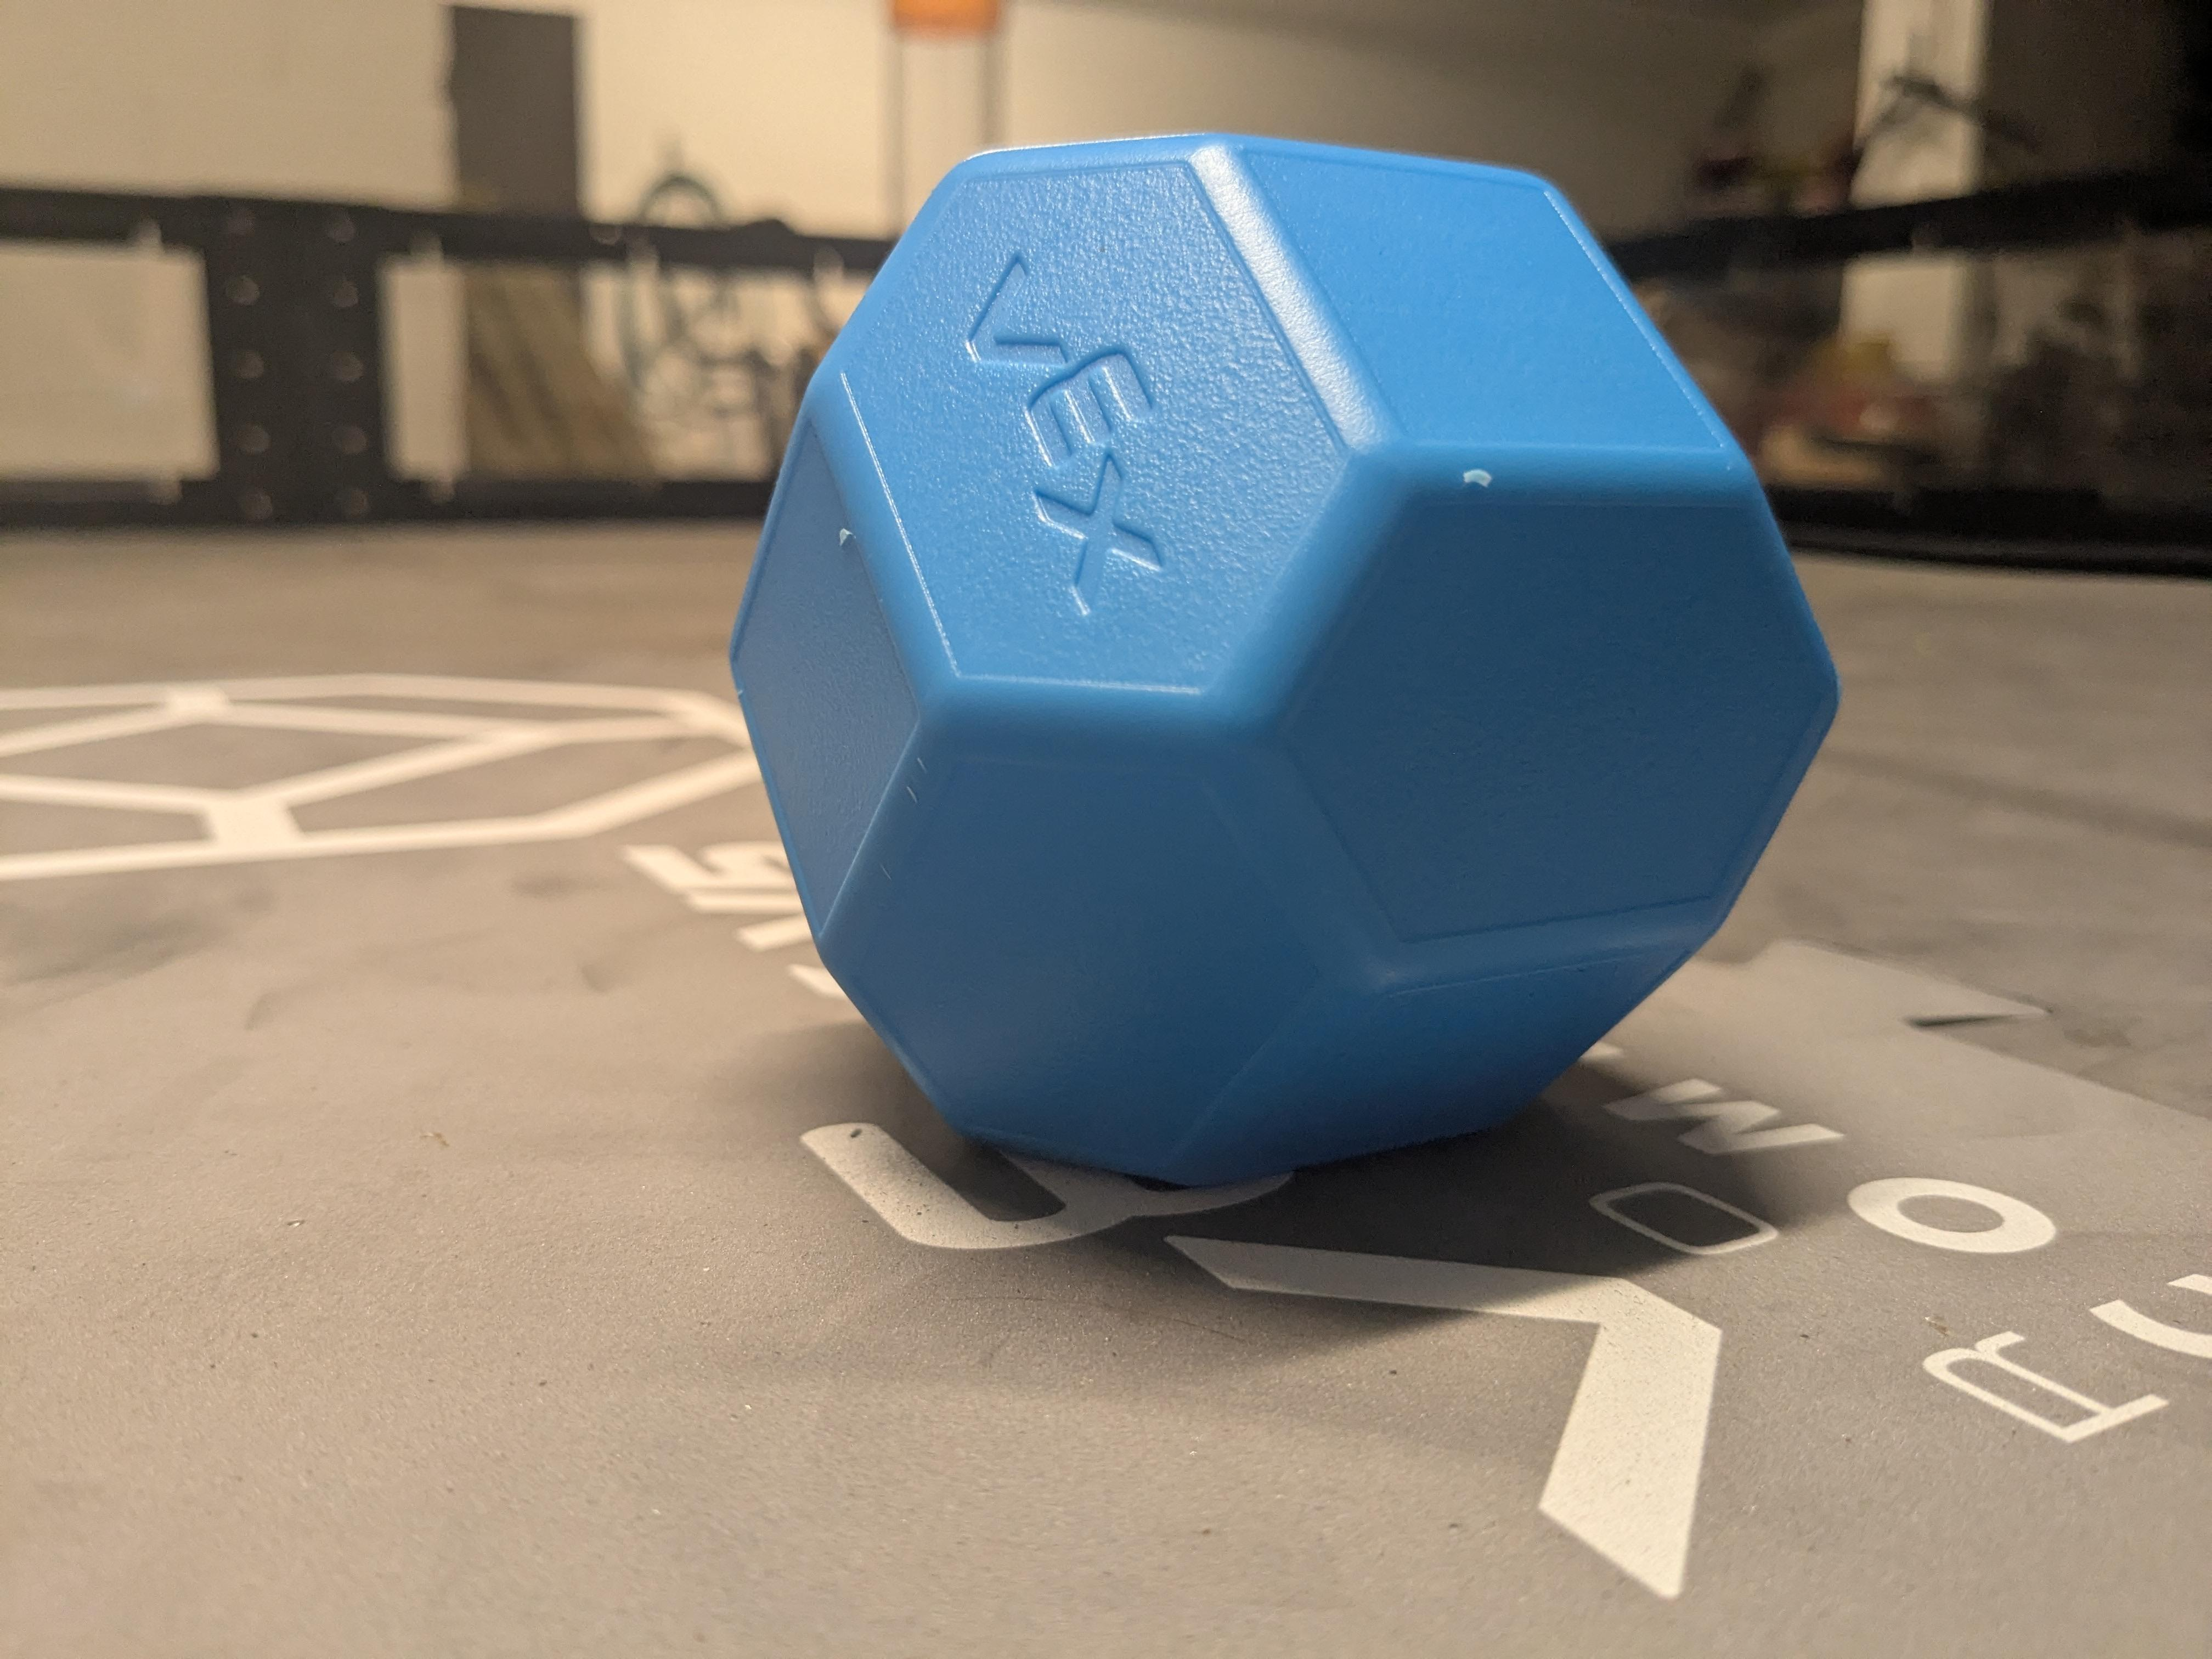Vex-Pieces-BLUE: (732, 136, 1838, 1185)
